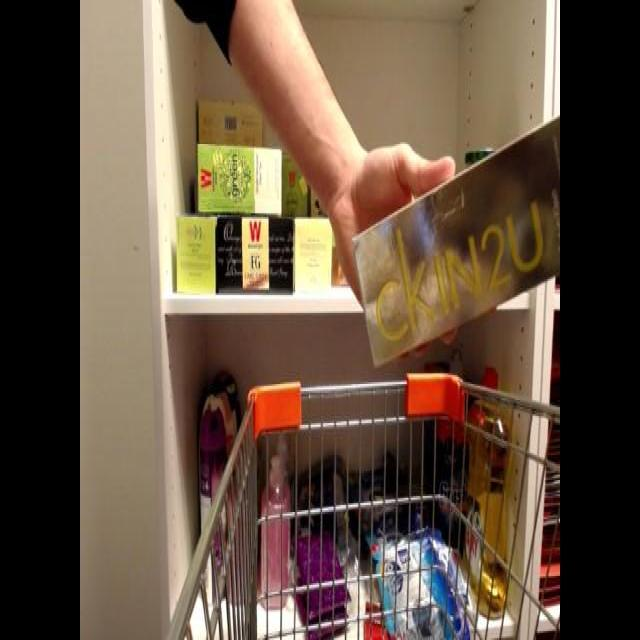Calvin Klein: (345, 101, 559, 372)
